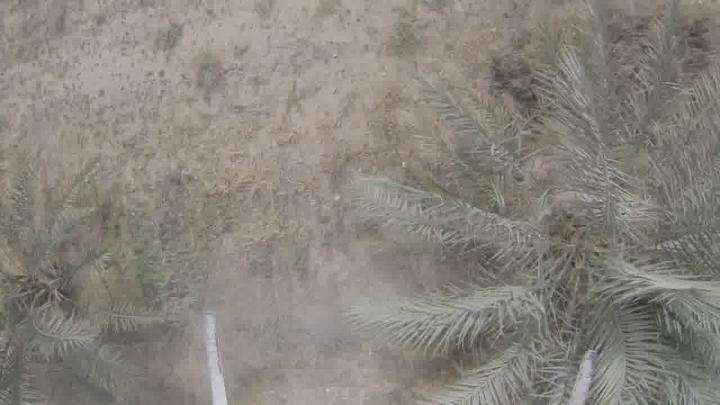Date-Palm-Crown: (441, 111, 720, 405), (0, 194, 98, 372)
